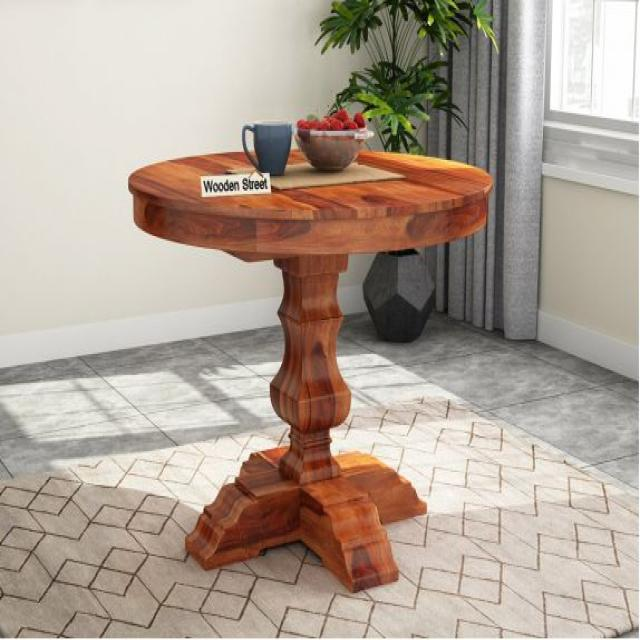obstacle: (84, 36, 568, 637)
